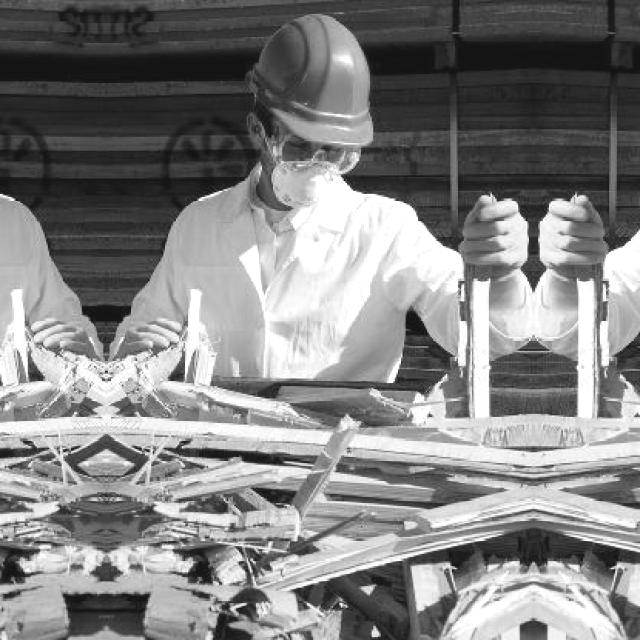face_mask: (272, 133, 352, 207)
glasses: (266, 128, 368, 176)
hand_glove: (535, 194, 608, 287), (457, 194, 532, 277), (20, 314, 99, 365), (114, 312, 191, 358)
head_helmet: (245, 11, 383, 149)
person: (130, 17, 463, 420)
